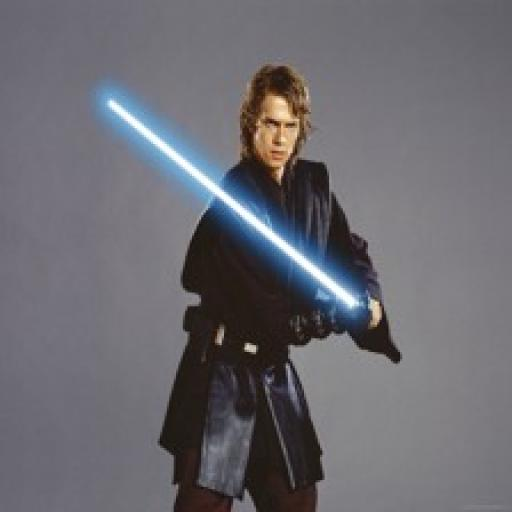human: (142, 57, 395, 512)
lightsaber: (105, 97, 384, 331)
